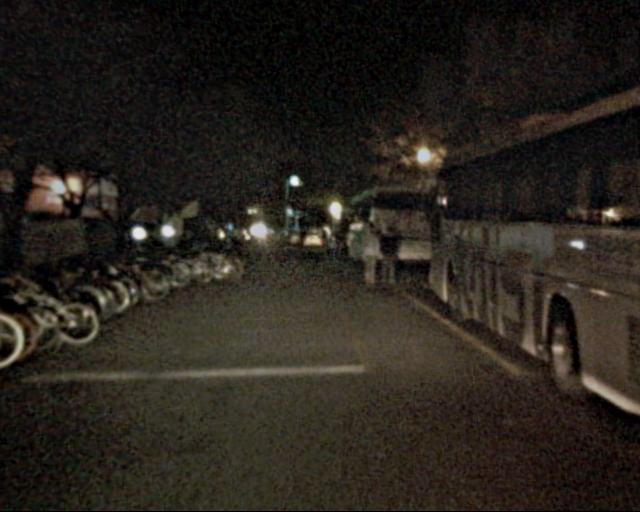person: (375, 225, 400, 287), (357, 225, 382, 285), (327, 225, 346, 272)
